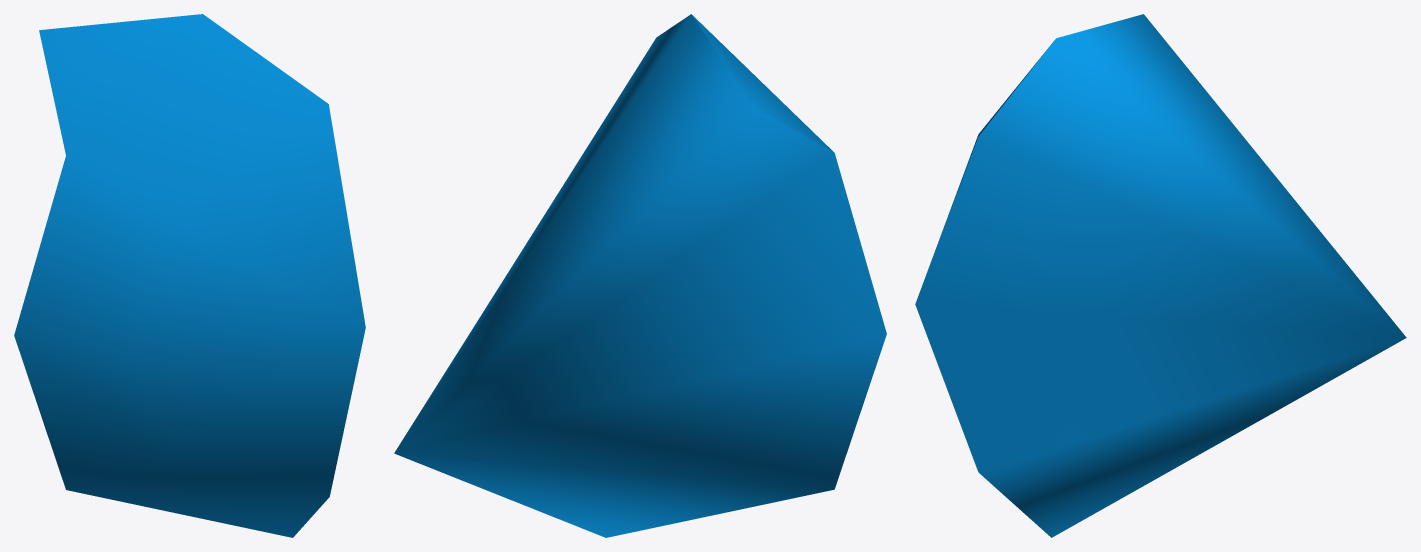
File: snowball_debris03.fbx
3 renders of one model, left to right at view 1: azimuth 30°, elevation 25°; view 2: azimuth 150°, elevation 25°; view 3: azimuth 270°, elevation 25°, orthographic. The views are drawn at different scales.
Parts seen in each view (by area): view 1: snowball_debris03; view 2: snowball_debris03; view 3: snowball_debris03.
Boxes of the visible parts, x1=… form: snowball_debris03: x1=14, y1=14, x2=365, y2=537; snowball_debris03: x1=394, y1=14, x2=886, y2=537; snowball_debris03: x1=915, y1=14, x2=1406, y2=537.
Size of the model in its own units: 0.1493 by 0.2758 by 0.2652.
